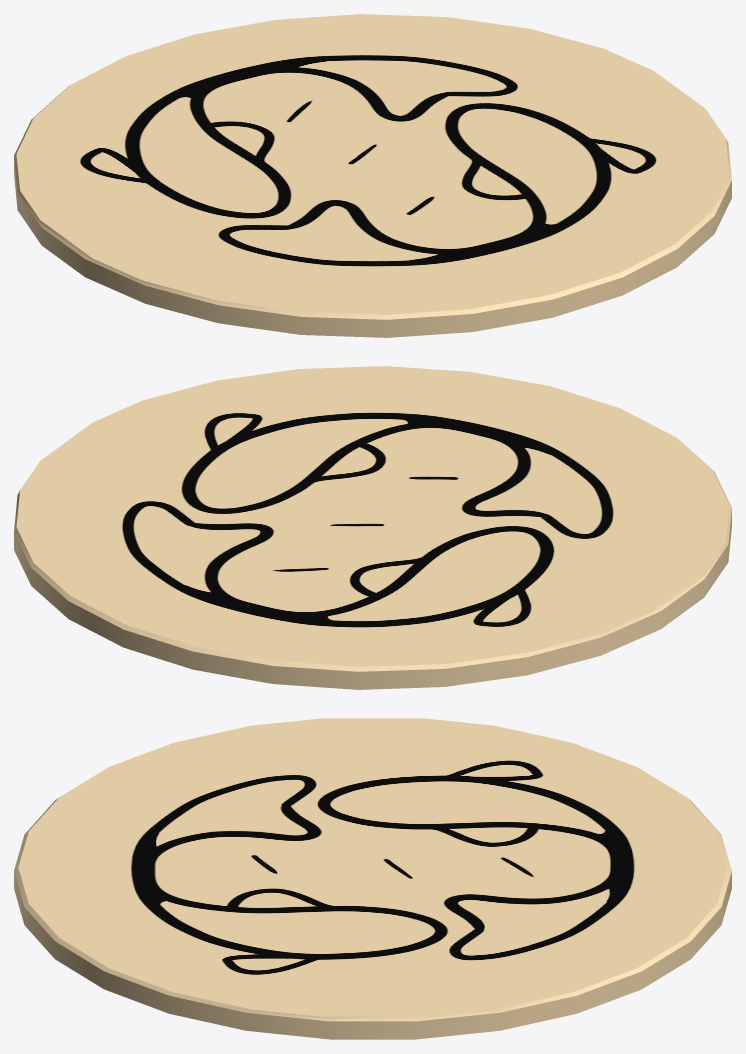
The model's file is Iglesia-Centro.fbx.
3 views of the same model, one above another, from view 1: azimuth 30°, elevation 25°; view 2: azimuth 150°, elevation 25°; view 3: azimuth 270°, elevation 25° (orthographic).
Visible parts, largest first — view 1: Pedestal/Alfombra; view 2: Pedestal/Alfombra; view 3: Pedestal/Alfombra.
Boxes of the visible parts, bbox=[...] form: Pedestal/Alfombra: bbox=[14, 14, 731, 337]; Pedestal/Alfombra: bbox=[14, 366, 731, 689]; Pedestal/Alfombra: bbox=[14, 718, 731, 1039].
Bounding box in the file's own units: 4.26 × 0.1404 × 4.29.
